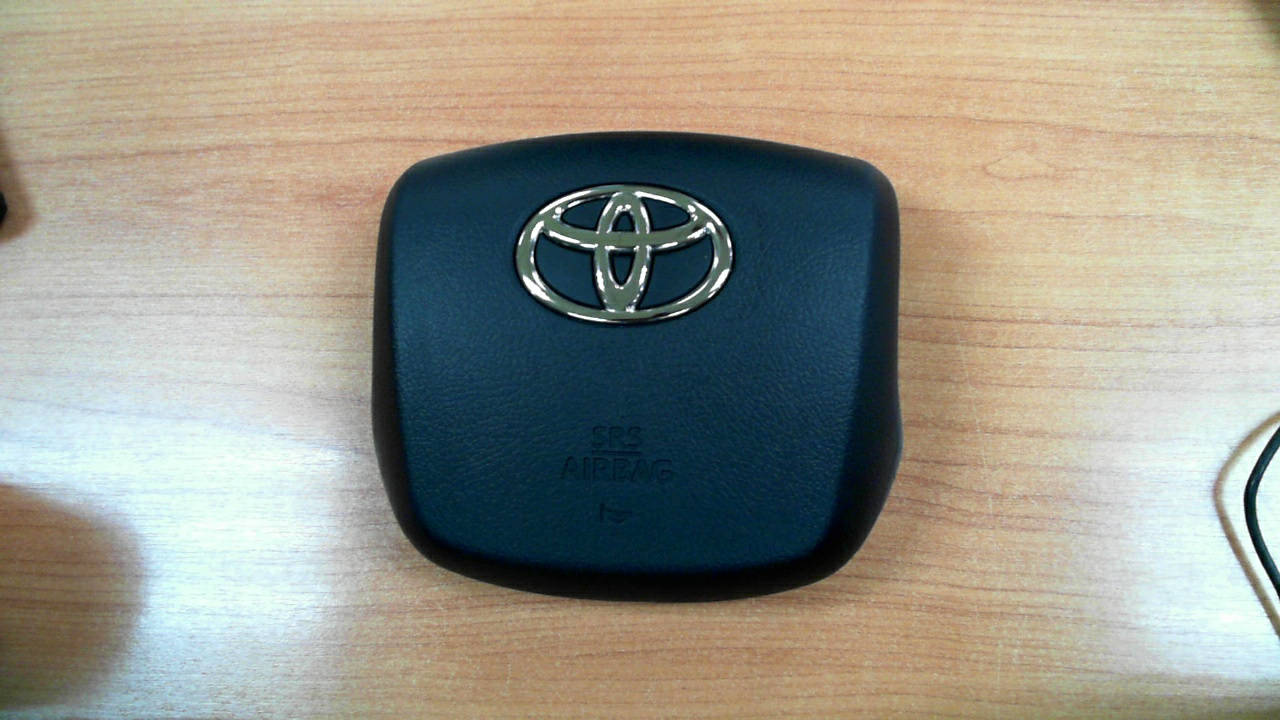Airbag: (333, 93, 938, 626)
